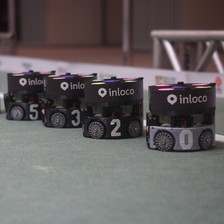robot: (144, 79, 220, 152), (80, 75, 145, 140), (40, 72, 85, 129), (1, 68, 43, 122)
